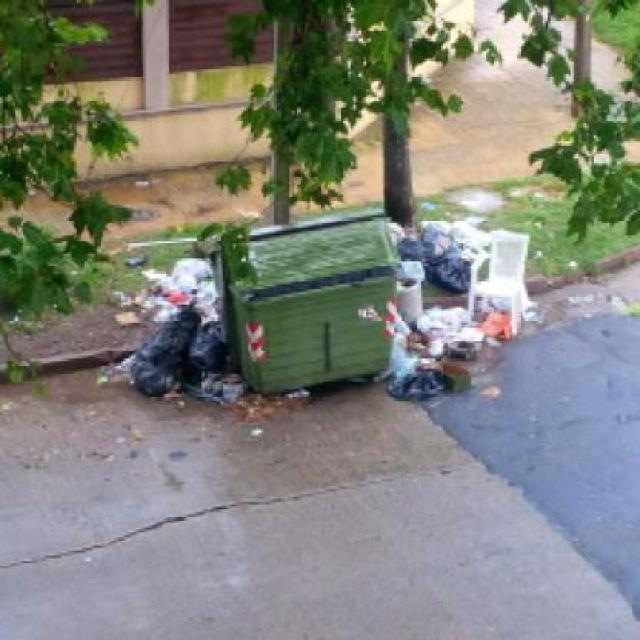garbage: (380, 211, 492, 392), (105, 254, 230, 400)
